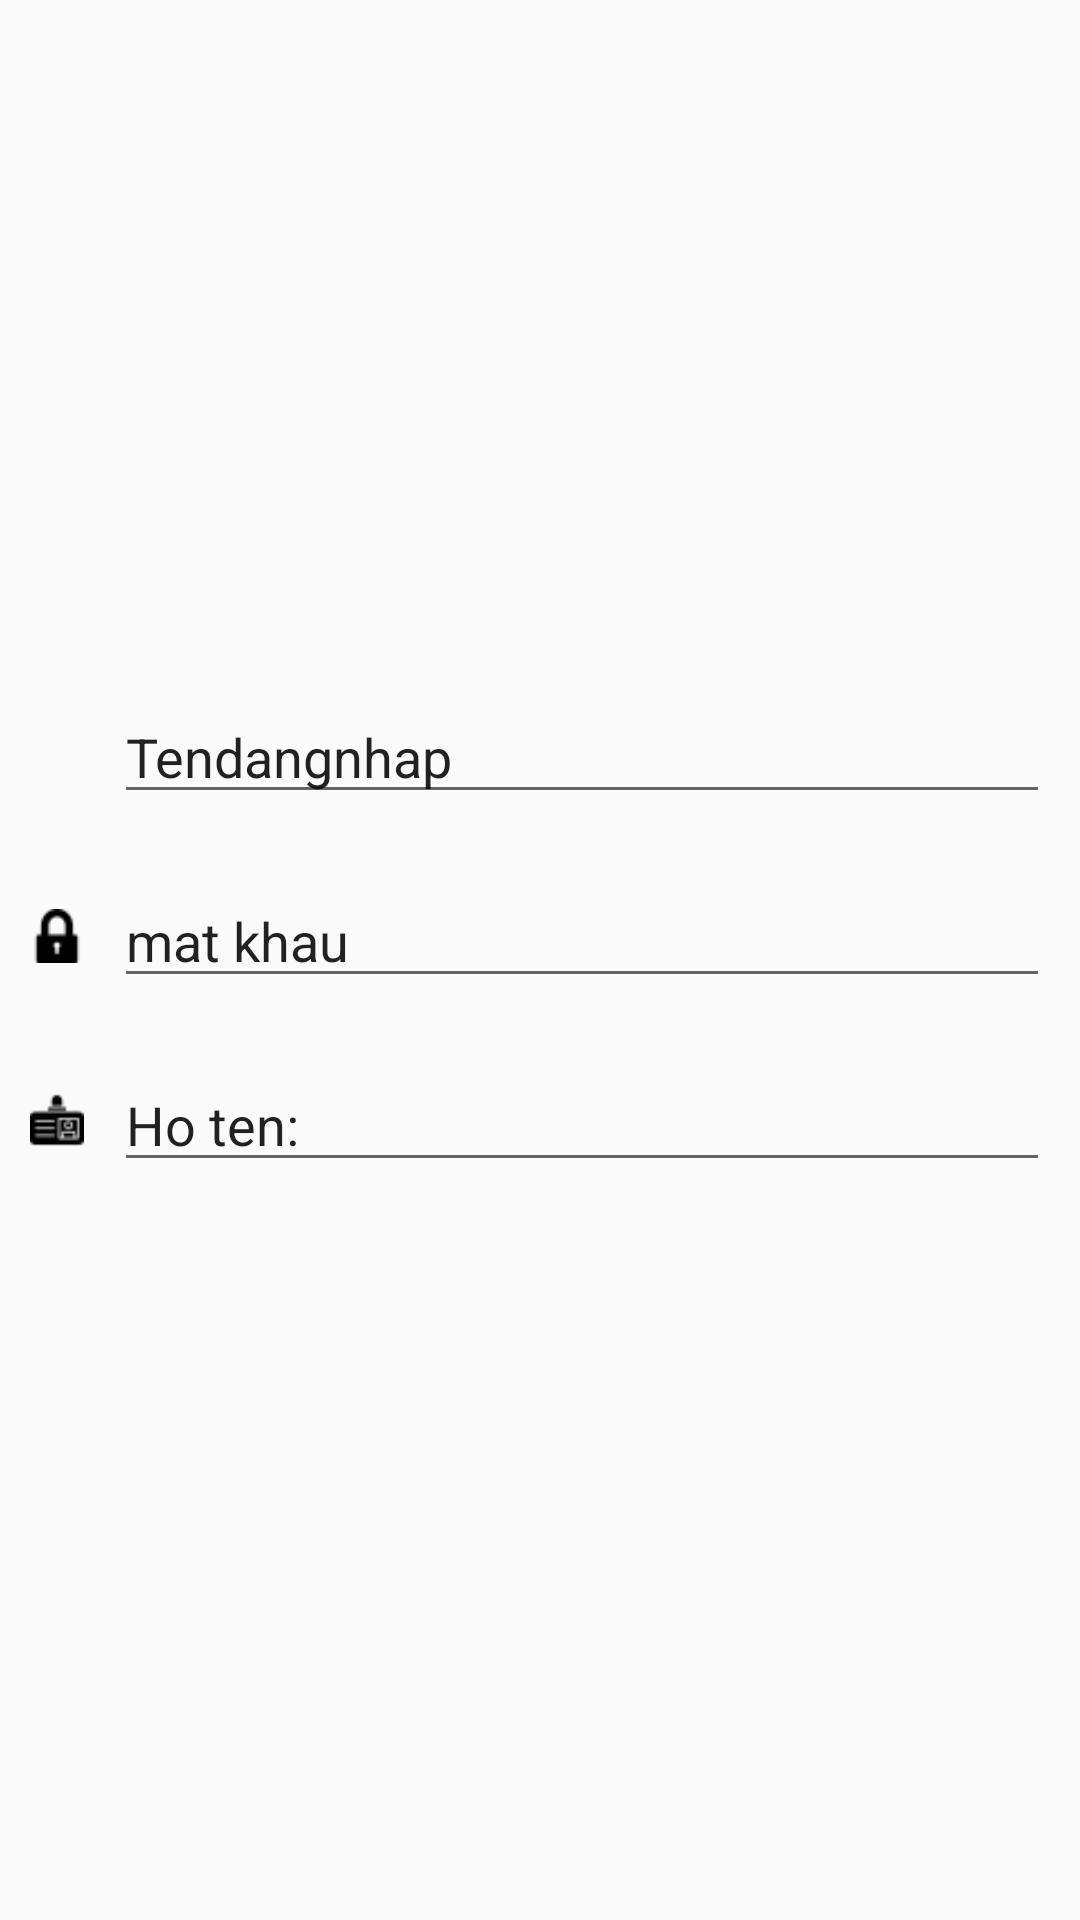

Screen size 1080*1920. Icon name, then its center in pixels as (x,y):
idcard: (57,1120)
